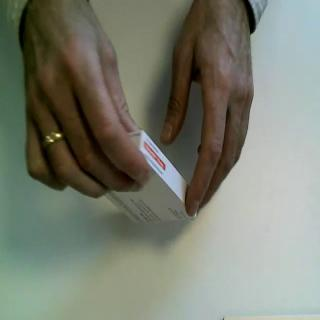dolcontin10mg: (103, 129, 198, 227)
